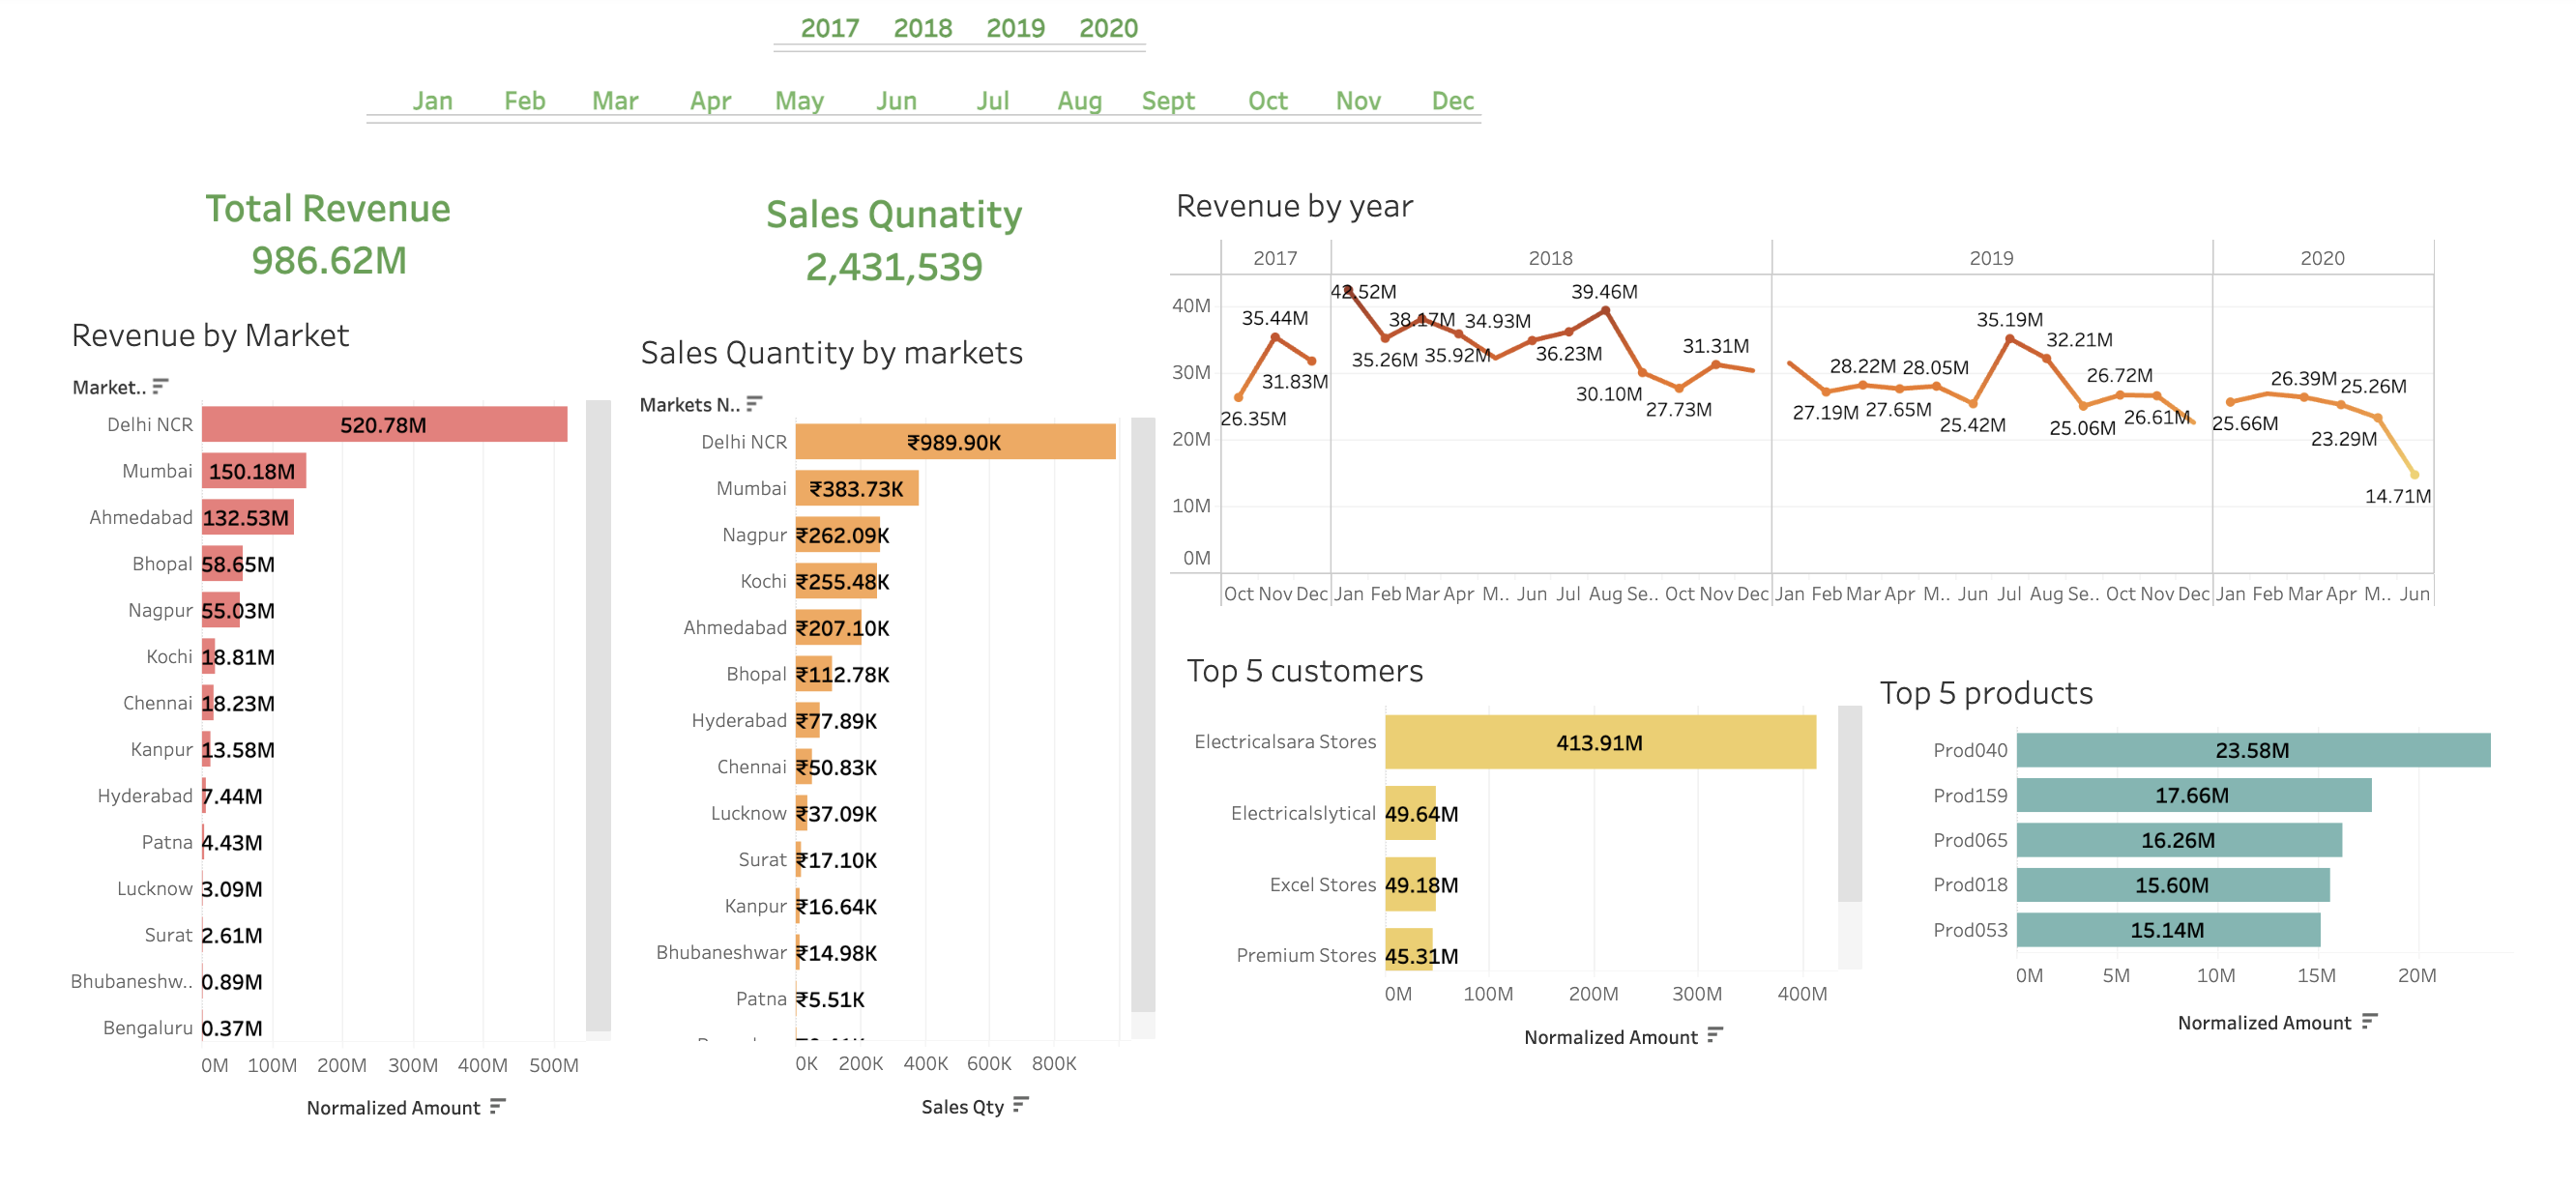

Layout of this report page (visuals, bound fields, positions):
{"tool":"tableau","page":{"name":"Dashboard 1","canvas":[1600,900],"ordinal":0},"visuals":[{"type":"worksheet","title":"Year","mark":"Automatic","cols":["cy_date"],"box":[470.4,17,267.7,59]},{"type":"worksheet","title":"Month","mark":"Automatic","cols":["cy_date"],"box":[206.9,64,816,59]},{"type":"worksheet","title":"Revenue","mark":"Automatic","box":[93,126,264,90]},{"type":"worksheet","title":"Quantity","mark":"Automatic","box":[458,130,280,93]},{"type":"worksheet","title":"Revenue by year","mark":"Automatic","rows":["Calculation_2060198354563072"],"cols":["cy_date","cy_date"],"box":[726,137,818,281]},{"type":"worksheet","title":"Revenue by Market","mark":"Automatic","rows":["markets_name"],"cols":["Calculation_2060198354563072"],"box":[12,221,355,534]},{"type":"worksheet","title":"Sales Quantity by markets","mark":"Automatic","rows":["markets_name"],"cols":["sales_qty"],"box":[380,232,339,522]},{"type":"worksheet","title":"Top 5 customers","mark":"Automatic","rows":["custmer_name"],"cols":["Calculation_2060198354563072"],"box":[733,438,443,271]},{"type":"worksheet","title":"Top 5 products","mark":"Automatic","rows":["product_code (products)"],"cols":["Calculation_2060198354563072"],"box":[1181,452,414,262]}]}

Visuals, with their boxes on the page's 1600x900 design canvas (x1, y1, x2, y2). These are canvas units, not pixel positions in the 2576x1187 screenshot, which may show the page scaled, cropped or inside an application window:
"Year" worksheet: [x1=470, y1=17, x2=738, y2=76]
"Month" worksheet: [x1=207, y1=64, x2=1023, y2=123]
"Revenue" worksheet: [x1=93, y1=126, x2=357, y2=216]
"Quantity" worksheet: [x1=458, y1=130, x2=738, y2=223]
"Revenue by year" worksheet: [x1=726, y1=137, x2=1544, y2=418]
"Revenue by Market" worksheet: [x1=12, y1=221, x2=367, y2=755]
"Sales Quantity by markets" worksheet: [x1=380, y1=232, x2=719, y2=754]
"Top 5 customers" worksheet: [x1=733, y1=438, x2=1176, y2=709]
"Top 5 products" worksheet: [x1=1181, y1=452, x2=1595, y2=714]
